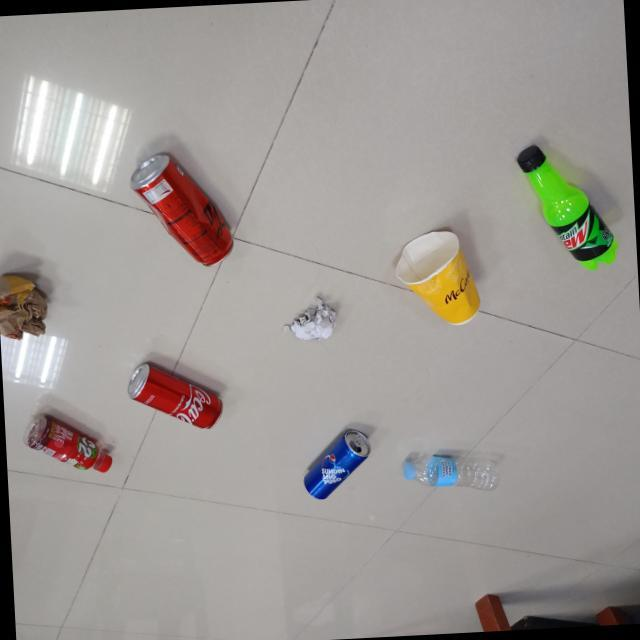recyclable waste: (512, 138, 624, 278), (124, 144, 240, 276), (388, 222, 488, 334), (124, 355, 230, 440), (17, 407, 118, 482), (294, 422, 378, 507), (397, 444, 507, 500), (0, 265, 56, 348), (278, 295, 344, 347)
